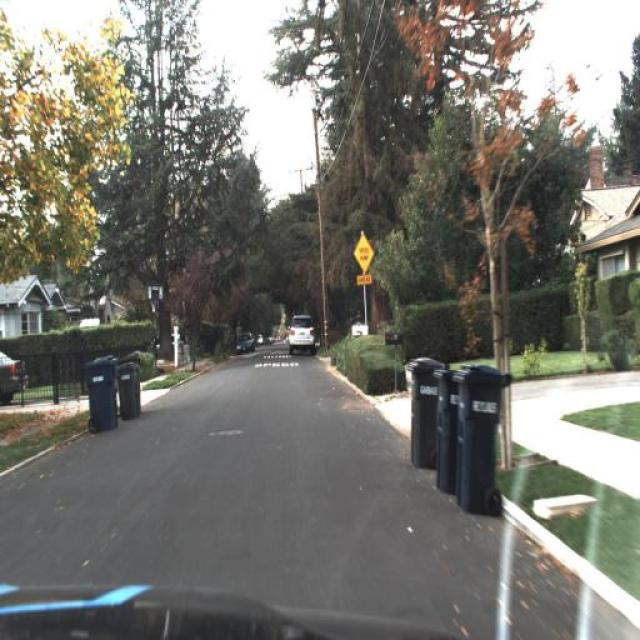car: (281, 308, 318, 357), (0, 347, 26, 409), (231, 328, 258, 361)
